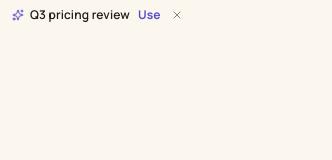
it: TitleHint › shows why a dismiss failed
This screenshot has width=332, height=160.
Click the button named "Dismiss suggestion" at (177, 15), box [169,7,185,23]
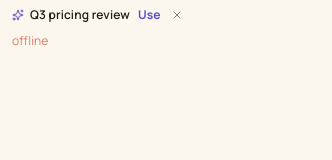
Expected: the text "offline" is shown, [12,32,48,48]
